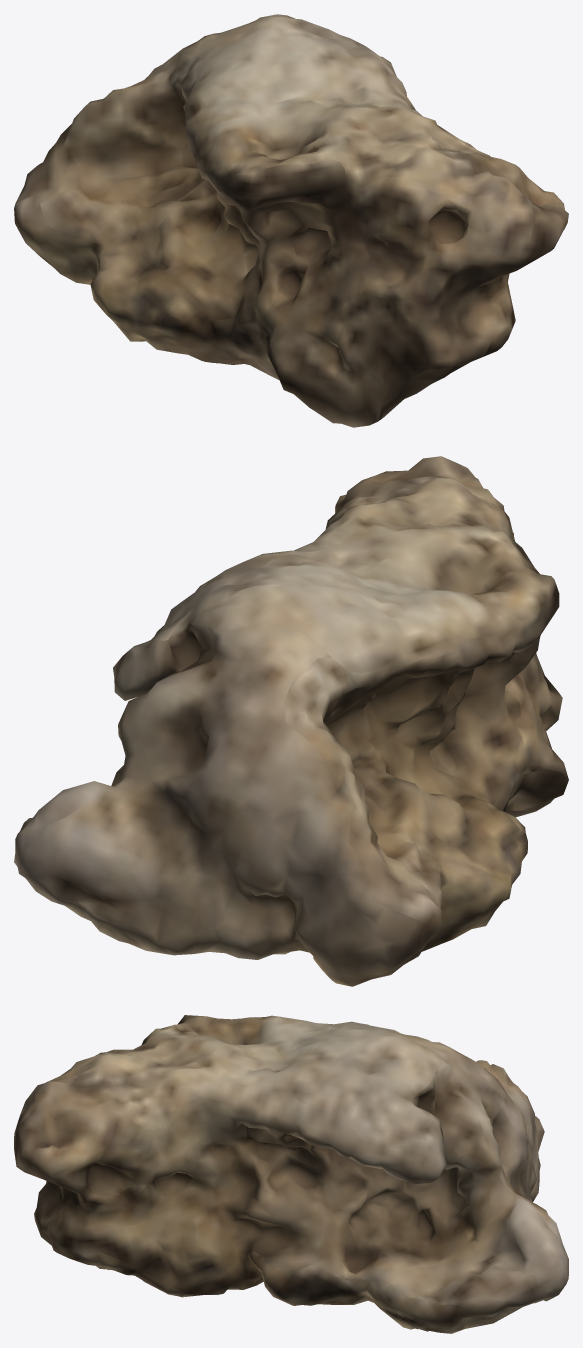
File: Chalk_Rock_01.fbx
The picture shows the model from 3 angles, top to bottom: view 1: azimuth 30°, elevation 25°; view 2: azimuth 150°, elevation 25°; view 3: azimuth 270°, elevation 25°; orthographic projection. The views are drawn at different scales.
Visible parts, largest first — view 1: C_Rock_01; view 2: C_Rock_01; view 3: C_Rock_01.
Part boxes in pixels (x1=…): C_Rock_01: x1=14, y1=14, x2=568, y2=427; C_Rock_01: x1=14, y1=456, x2=568, y2=986; C_Rock_01: x1=14, y1=1015, x2=568, y2=1333.
Size of what is drawn, in the model's own units: 285 by 221 by 403.
